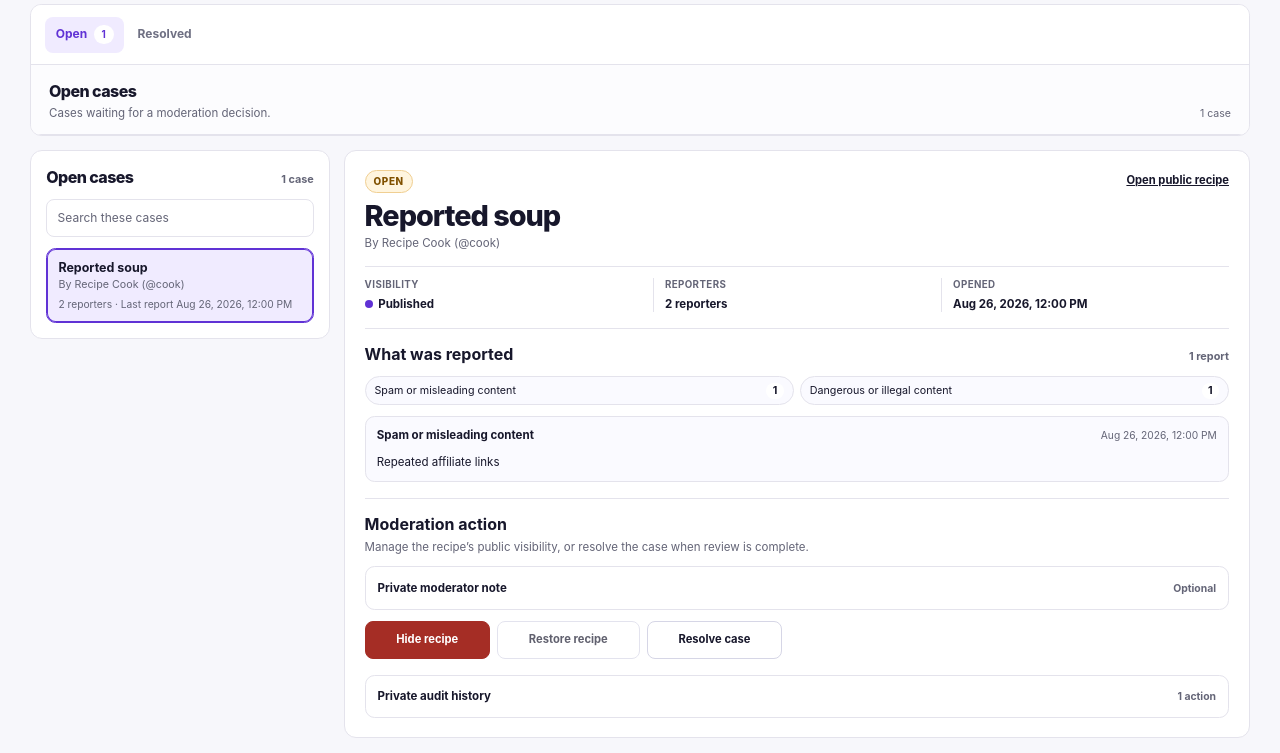
Scenario: RecipeModerationWorkspace › shows de-identified evidence and records a private moderator action
The image size is (1280, 753).
(page scrolled)
Expected: the heading "Reported soup" is shown, [365, 200, 560, 231]
Expected: the header with class "workspace-panel-header" shows "Open cases", [49, 81, 136, 101]
Click the text "Private audit history" at (434, 697), box [378, 688, 491, 705]
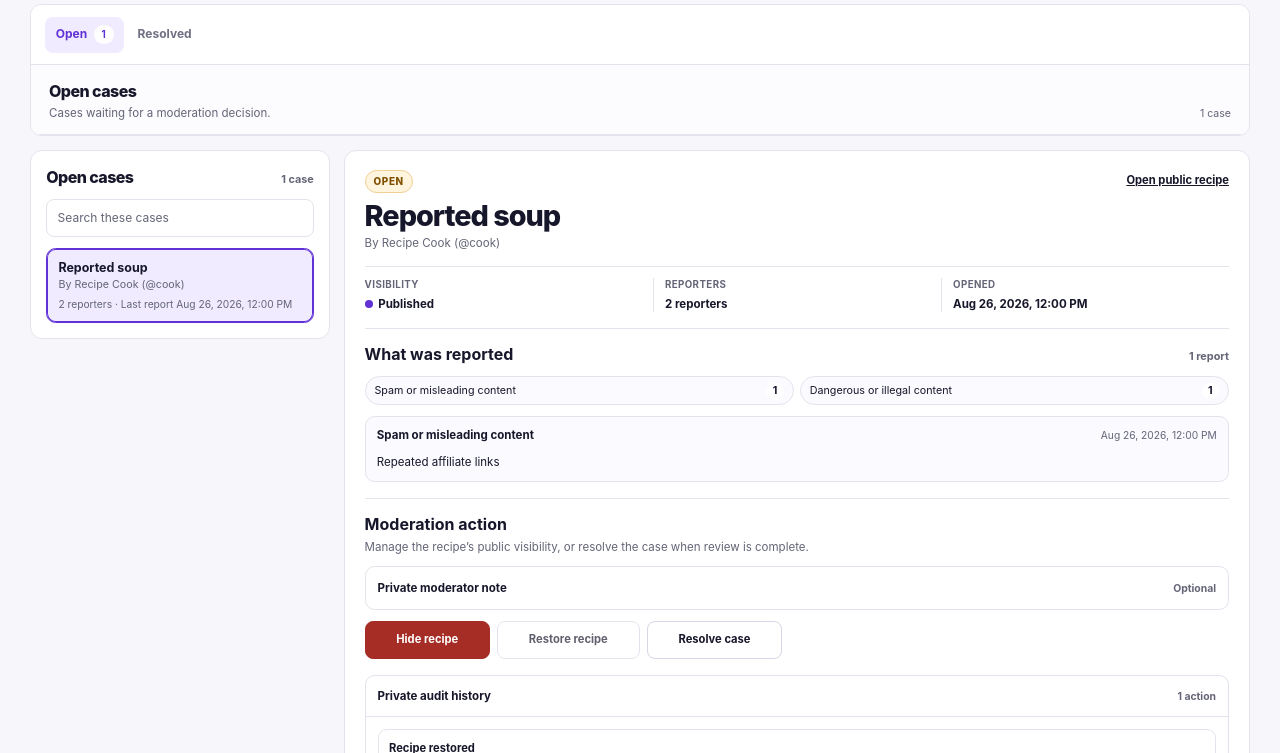
Click the text "Private moderator note" at (442, 588), box [378, 580, 507, 597]
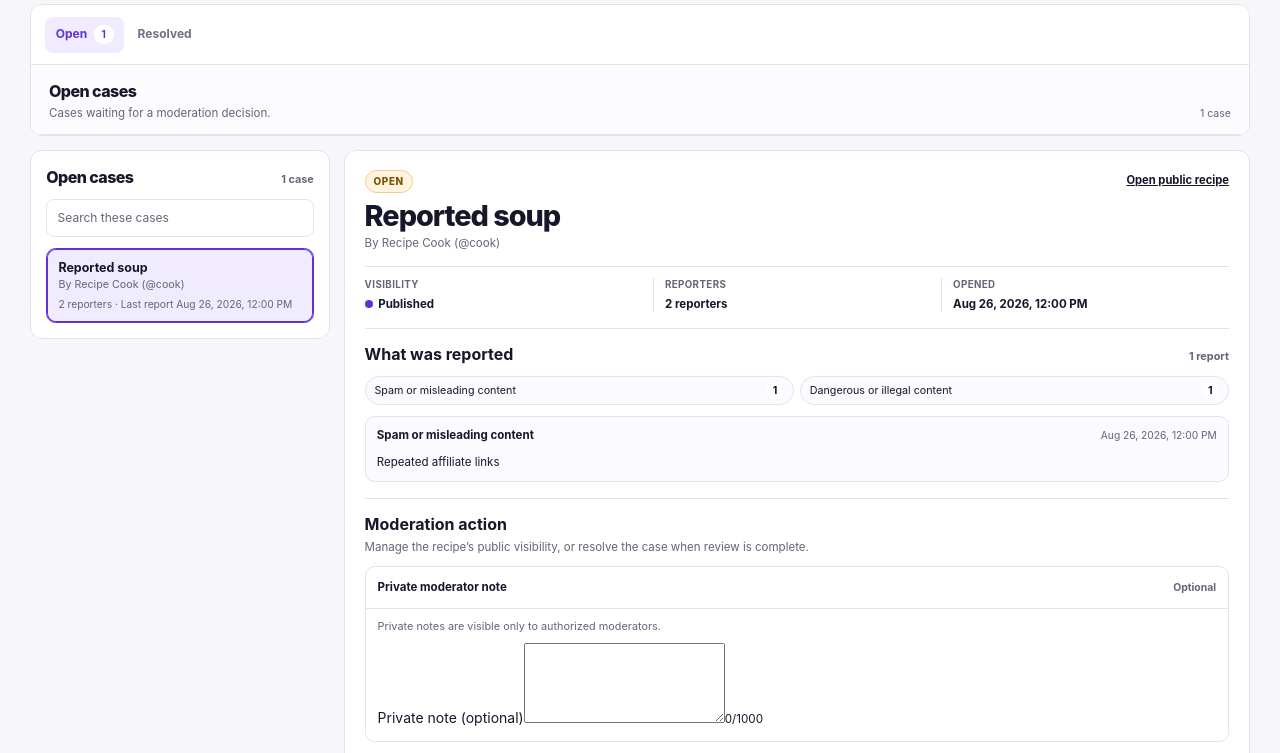
Now the text "Private moderator note" has attribute open, box [365, 566, 1229, 742]
Type "  Links confirmed in recipe body.  " into the text box labelled "Private note (optional)" at (624, 683), box [524, 643, 725, 723]
(page scrolled)
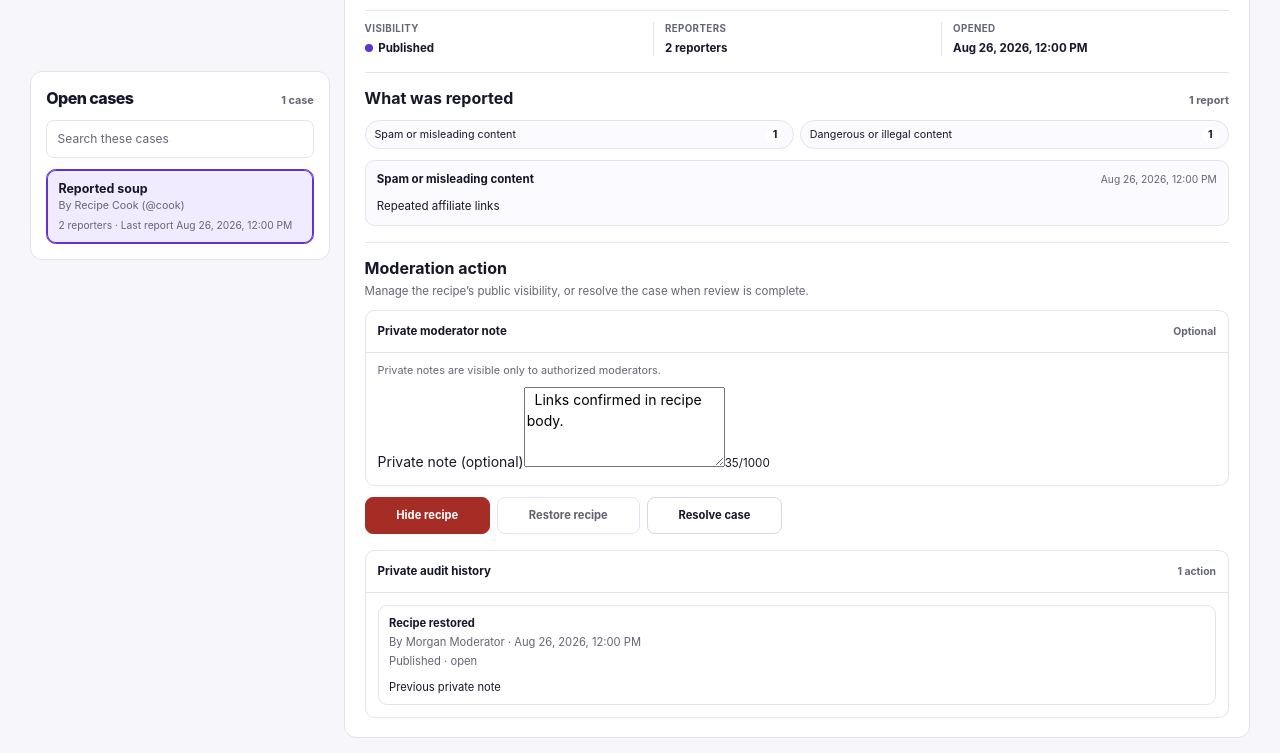
Click the button "Hide recipe" at (427, 516), box [365, 497, 490, 534]
(page scrolled)
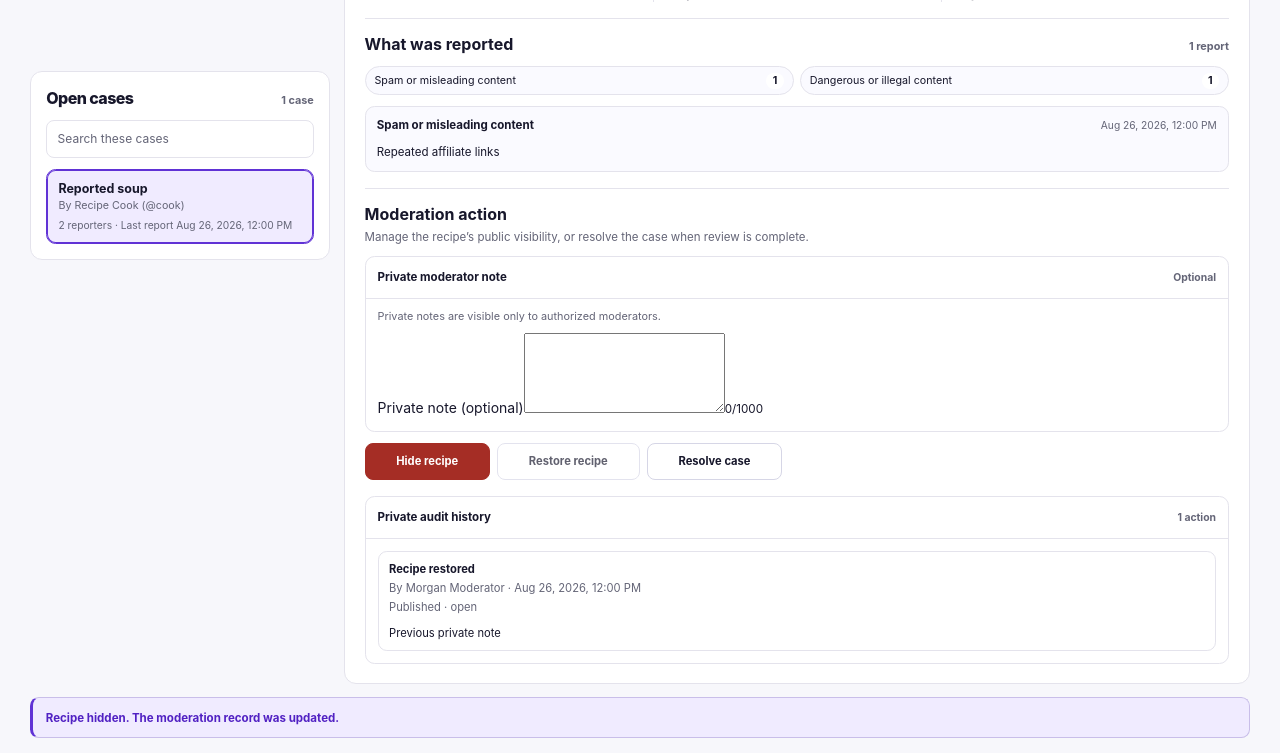
Now the text "Recipe hidden. The moderation record was updated." is shown, box [30, 697, 1250, 738]
